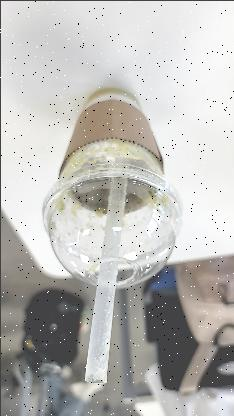Others: (38, 83, 184, 287), (36, 162, 188, 289), (83, 173, 129, 382)
